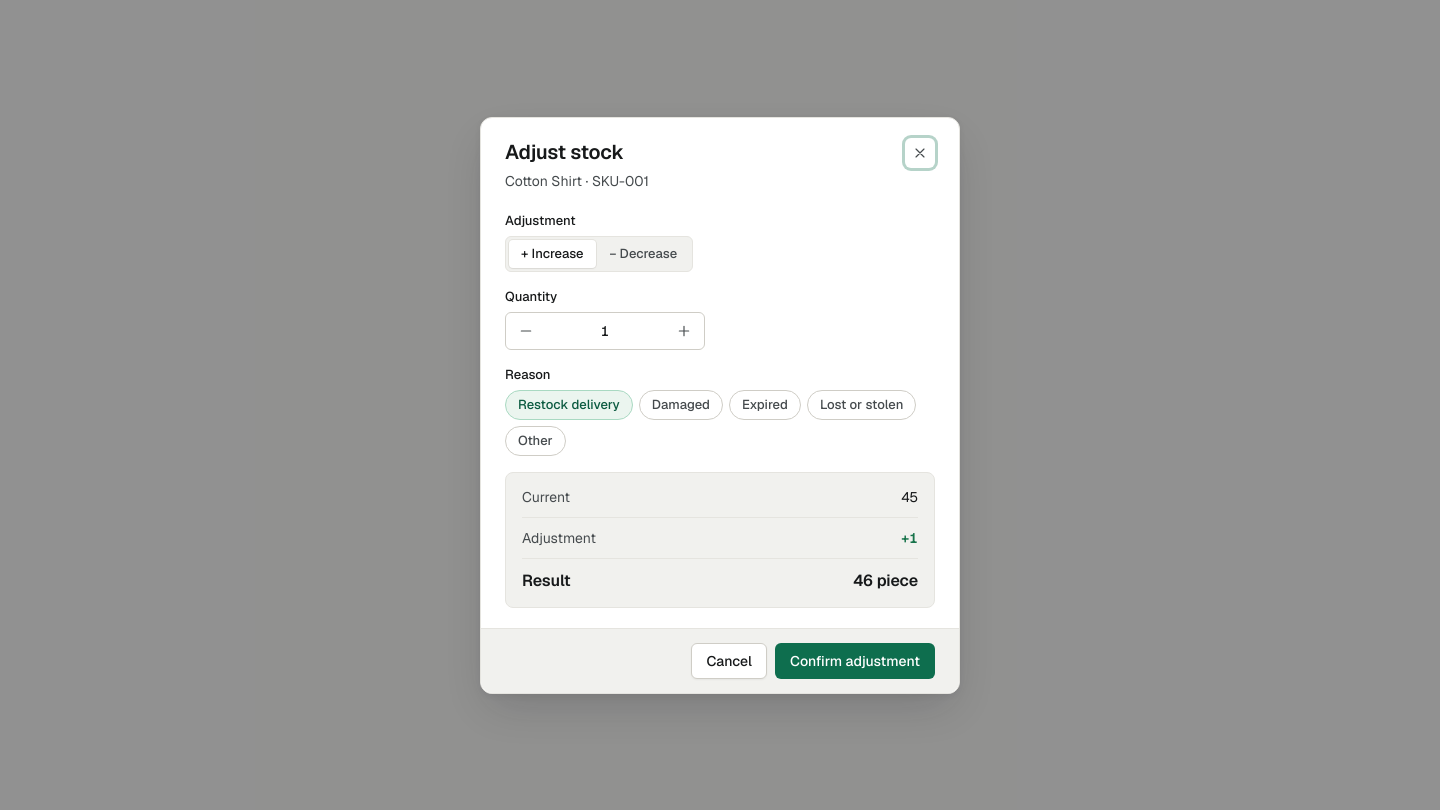
Test: Inventory Frontend Slice (INV-005) › StockChangeModal › requires a reason when Other is chosen
Click the button "Other" at (535, 440), box [505,426,566,456]
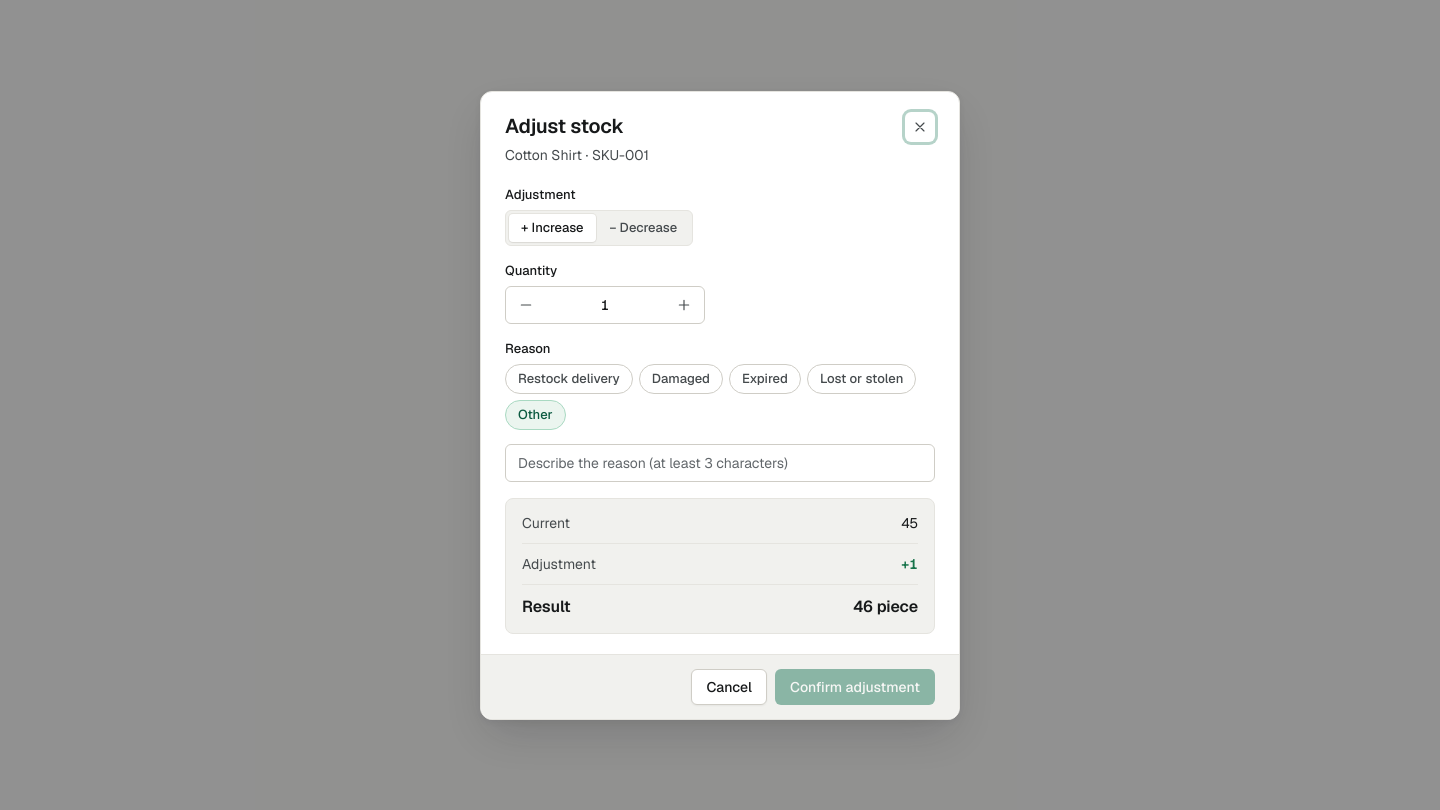
Now the button "Confirm adjustment" is disabled, box [775,668,935,704]
Type "Sample given to customer" into the field labelled "Describe the reason" at (720, 462), box [505,444,935,482]
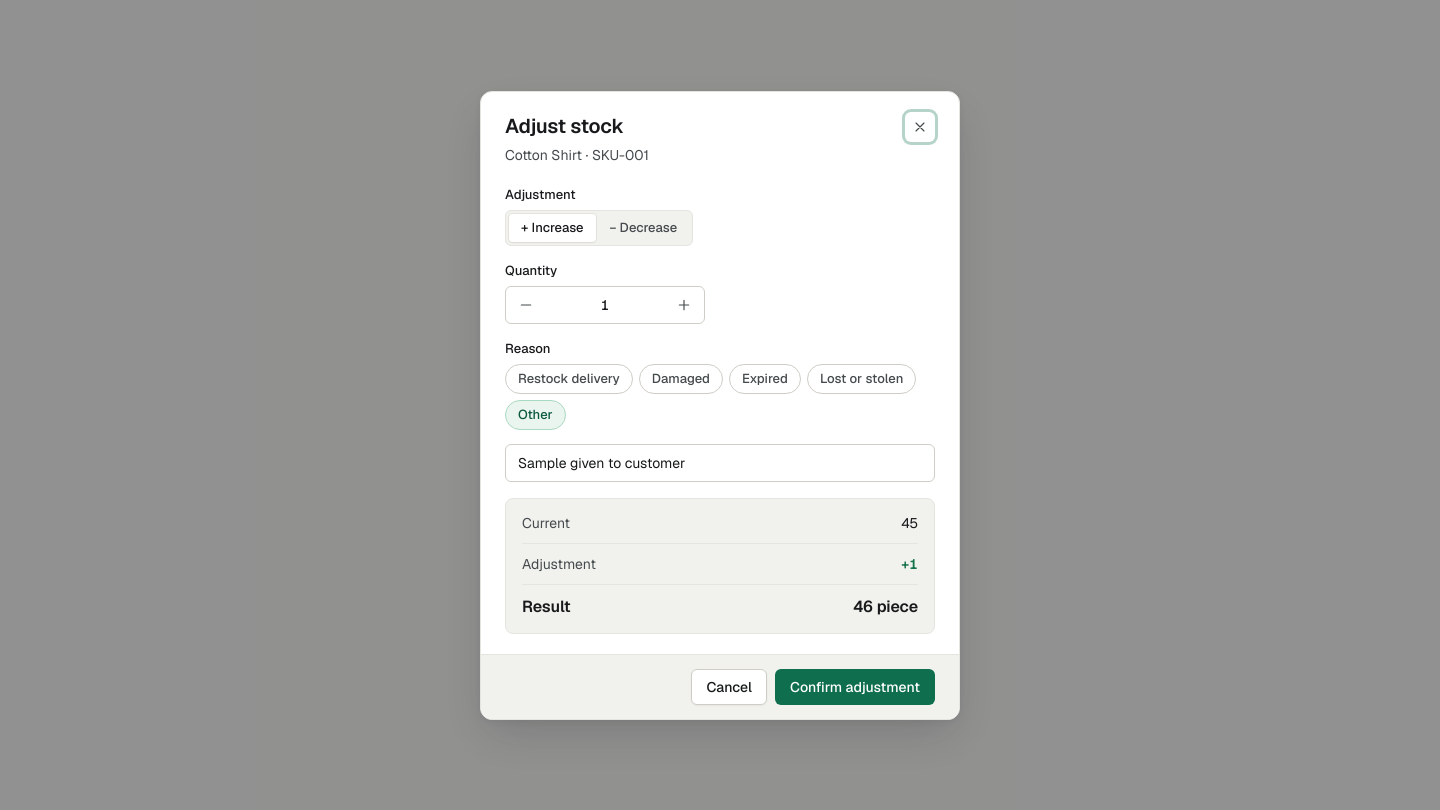
Now the button "Confirm adjustment" is enabled, box [775,668,935,704]
